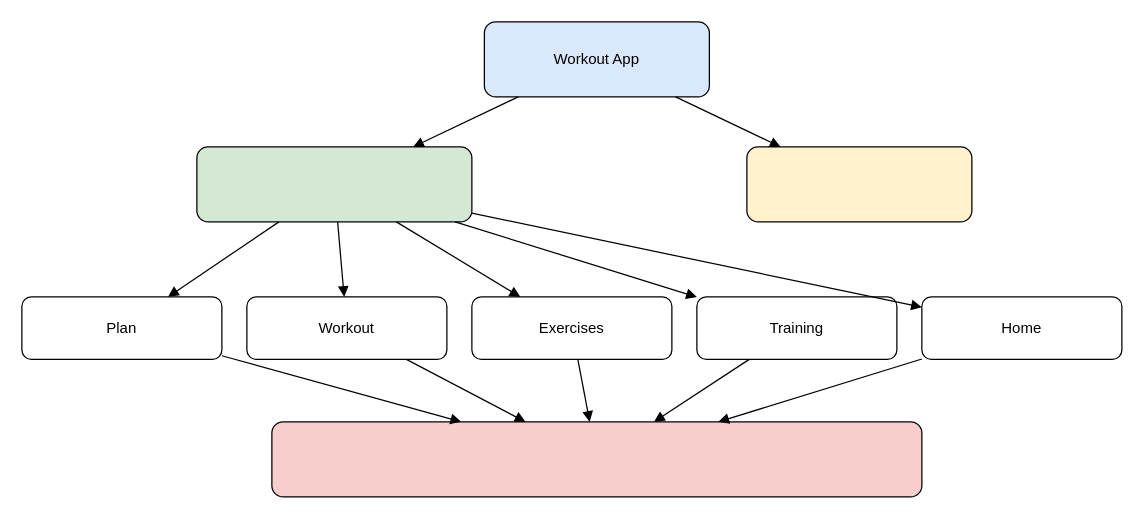
The diagram is 1144 pixels wide and 519 high, and some of its shapes have lost their labels. Each missing label, with the box of its shape:
Core: (746, 146, 972, 222)
Features: (196, 146, 472, 222)
Layers per feature: data / domain / presentation: (271, 421, 922, 497)
